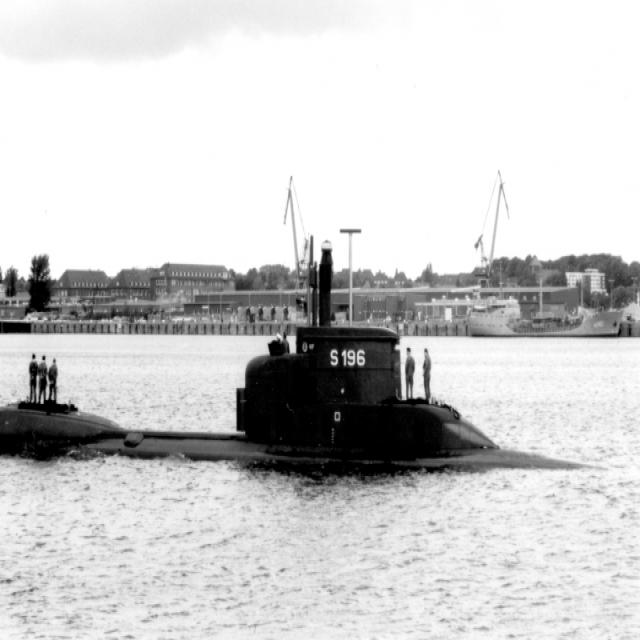submarine: (1, 228, 600, 470)
